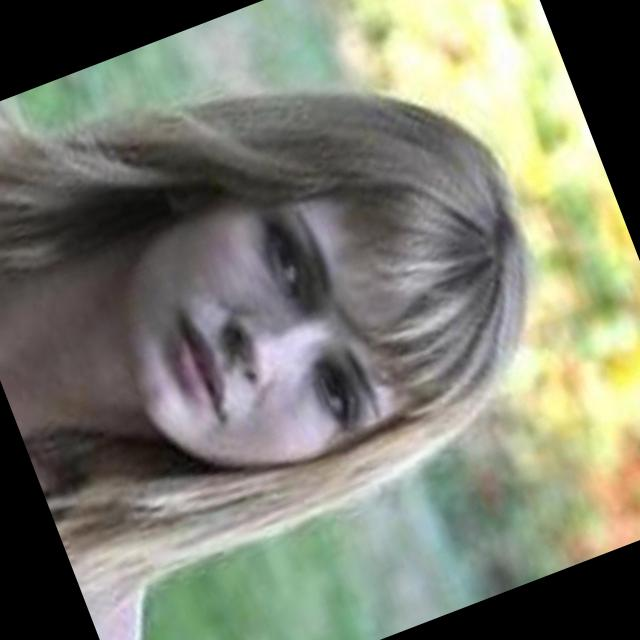bareface: (66, 58, 568, 510)
